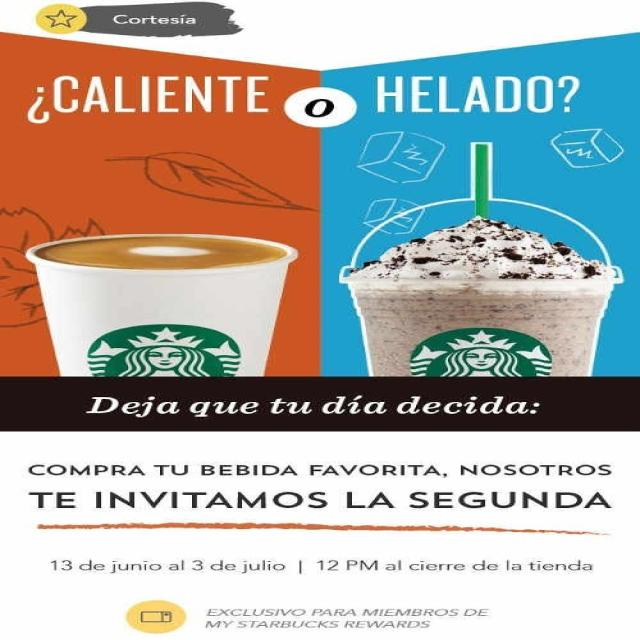starbucks: (81, 319, 252, 383), (408, 324, 568, 381)
